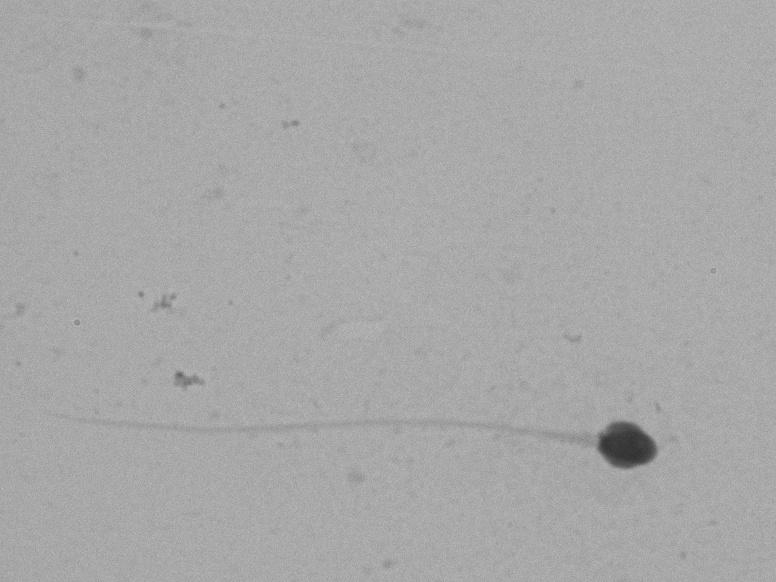Abnormal: (30, 370, 683, 509)
